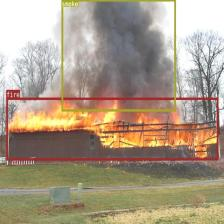fire: (6, 97, 218, 160)
smoke: (61, 0, 176, 111)
